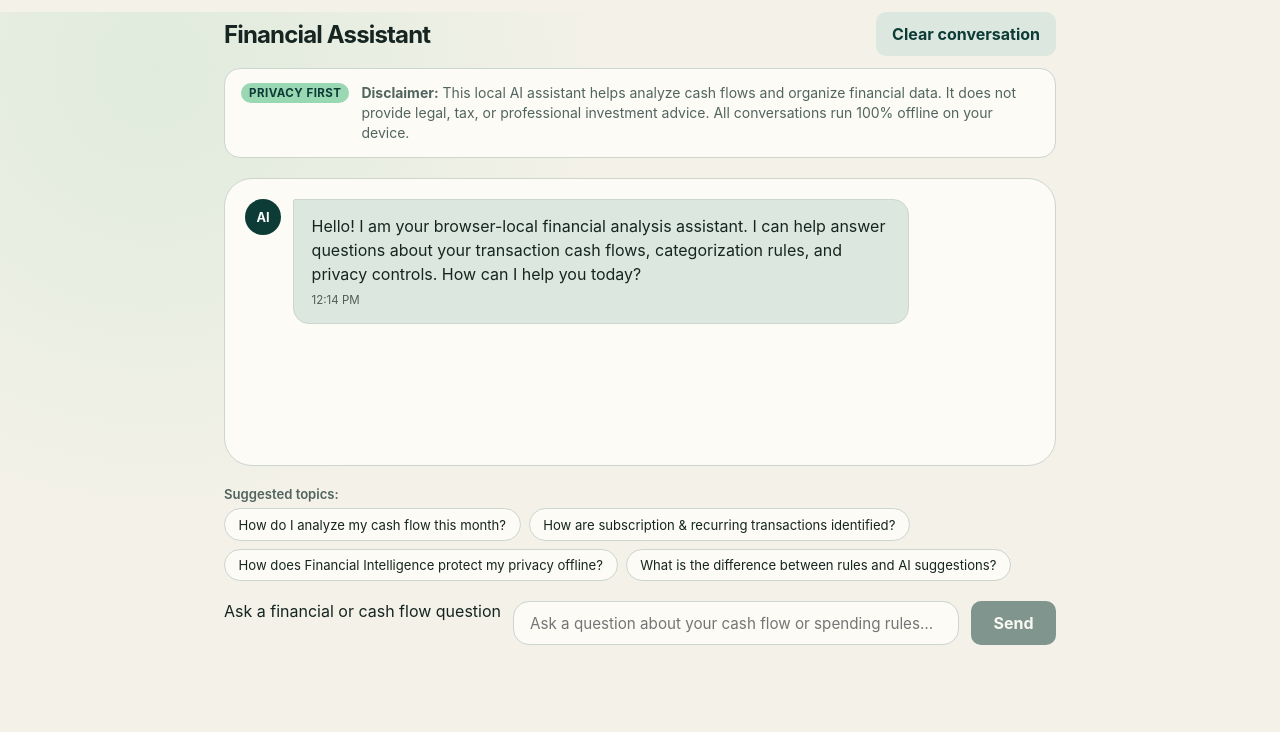
Test: ChatPage › clears conversation history when Clear button is clicked
The image size is (1280, 732).
Expected: the heading "Financial Assistant" is shown, [224, 20, 430, 48]
Type "Test question" into the field with placeholder "Ask a question about your cash flow or spending rules…" at (736, 623), box [513, 601, 959, 645]
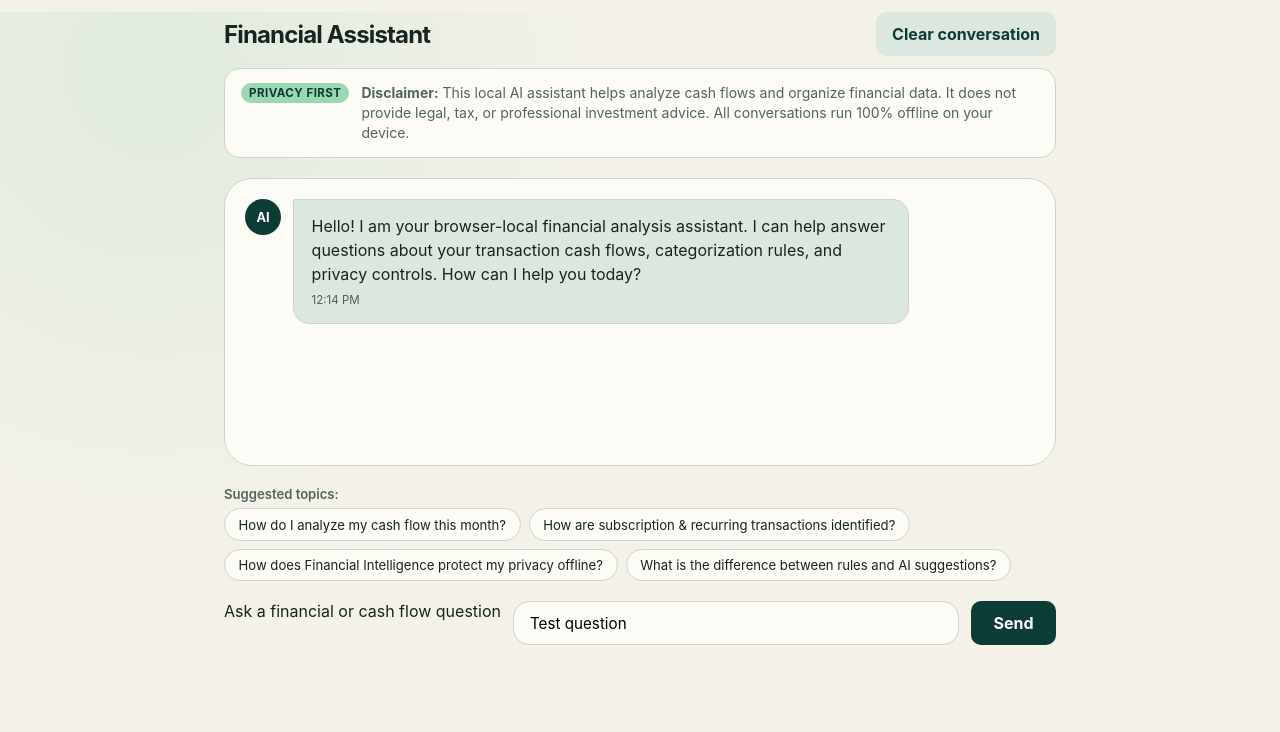
Click the button "Send" at (1014, 623), box [971, 601, 1056, 645]
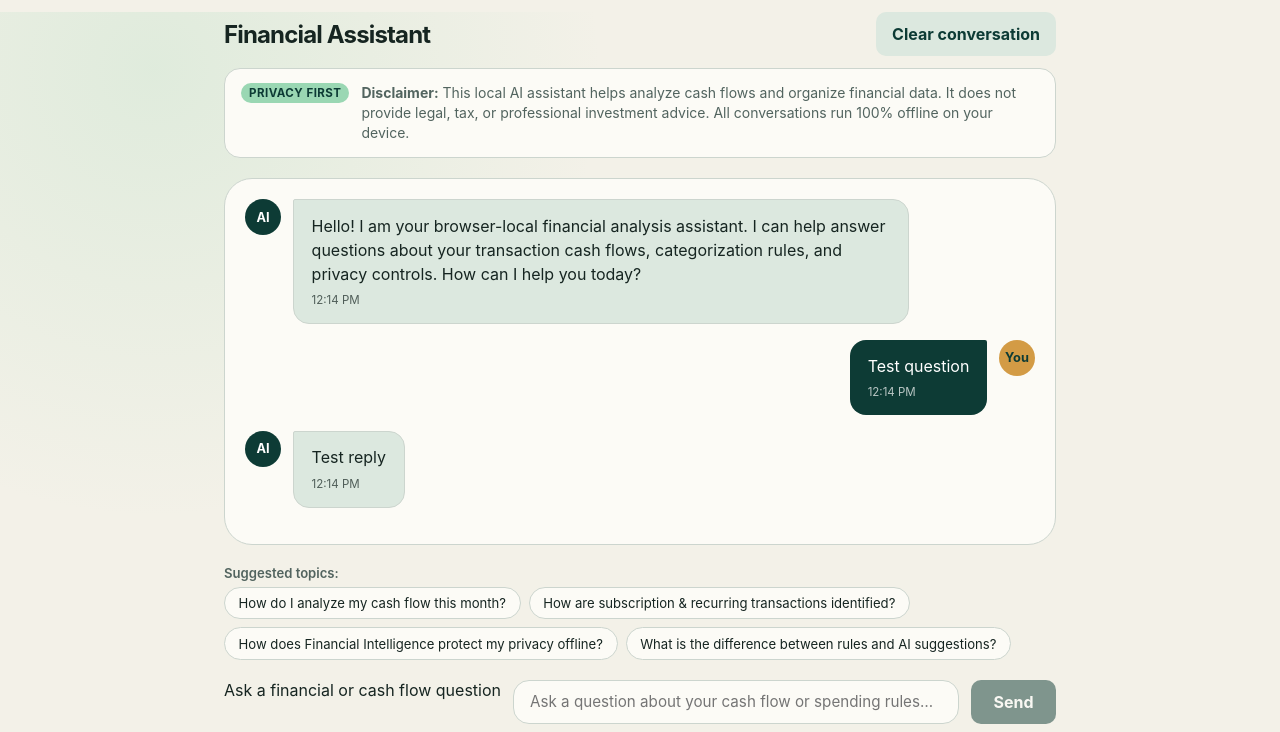
Result: the text "Test question" is shown at [868, 354, 969, 378]
Click the button "Clear conversation" at (966, 34), box [876, 12, 1056, 56]
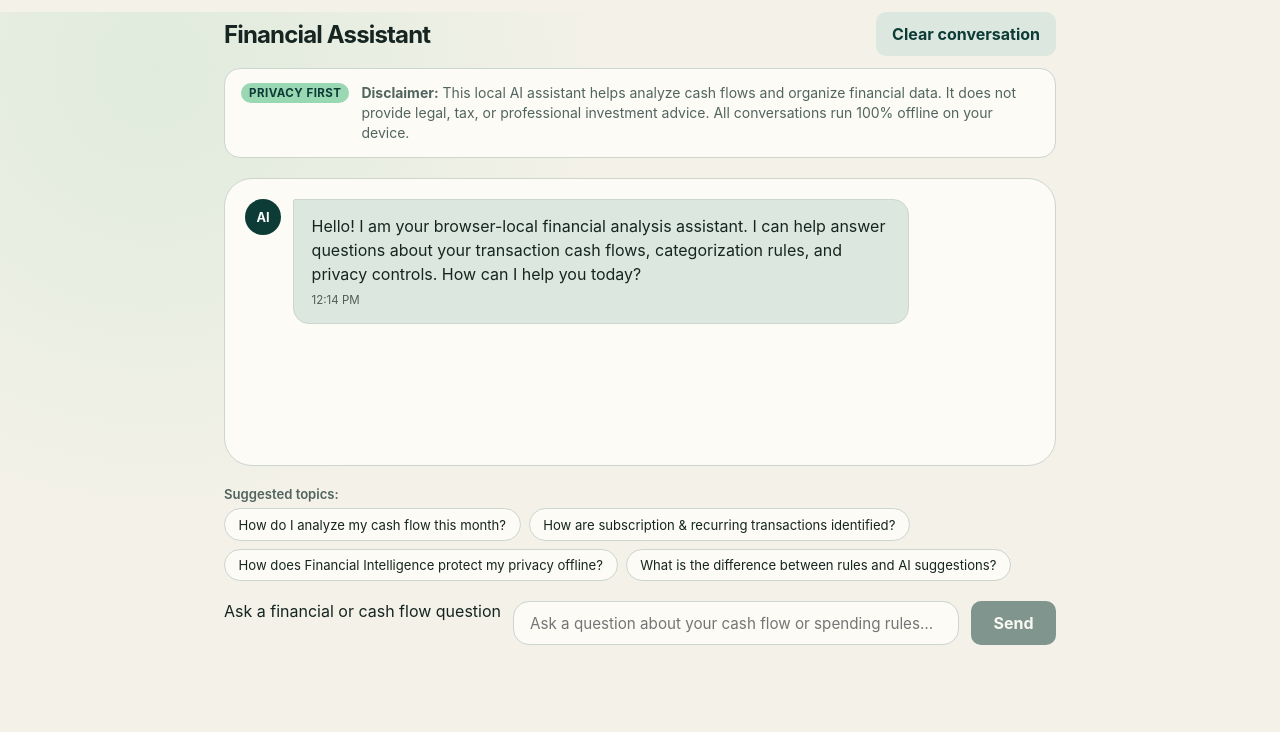
Result: the text "Test question" is gone
